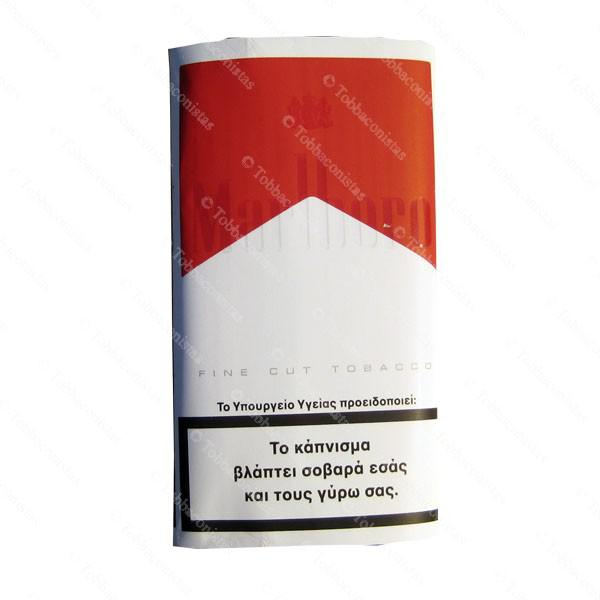marlboro_red: (178, 51, 438, 529)
